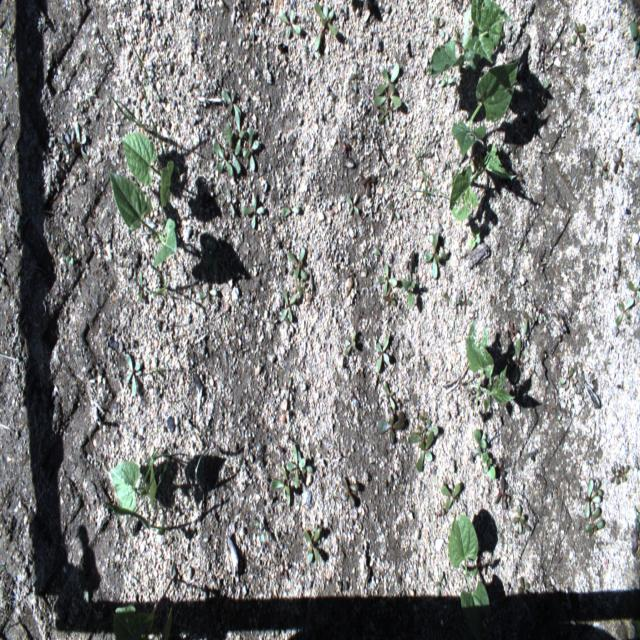crop: (428, 0, 514, 89), (107, 170, 177, 268), (451, 59, 518, 158), (450, 142, 512, 224), (465, 320, 513, 412), (446, 510, 489, 609), (122, 131, 174, 207), (109, 448, 169, 510), (112, 605, 160, 639)
weed: (131, 35, 168, 165), (408, 162, 448, 223), (106, 502, 166, 536), (108, 94, 146, 131), (423, 230, 448, 278), (286, 445, 312, 488), (410, 132, 436, 170), (64, 122, 88, 163), (313, 0, 339, 37), (378, 412, 406, 446), (373, 94, 402, 125), (223, 124, 240, 176), (414, 430, 434, 474), (271, 467, 291, 506), (286, 247, 308, 282), (303, 525, 322, 565), (242, 126, 259, 170), (376, 63, 400, 94), (242, 196, 264, 228), (585, 479, 603, 518), (377, 262, 397, 297), (279, 8, 301, 39), (125, 354, 142, 394), (410, 418, 438, 441), (213, 143, 232, 176), (440, 484, 461, 512), (4, 7, 12, 80), (222, 88, 241, 117), (514, 506, 532, 536), (616, 298, 635, 326), (281, 288, 296, 322), (147, 272, 167, 297), (342, 476, 358, 507), (585, 509, 605, 533), (376, 333, 388, 373), (482, 450, 497, 482), (402, 277, 416, 310), (160, 604, 172, 640), (349, 60, 362, 92), (495, 478, 508, 510), (304, 32, 320, 57), (235, 110, 244, 154), (473, 428, 487, 456), (570, 22, 586, 46), (224, 188, 236, 220), (631, 19, 640, 60), (432, 13, 445, 41), (199, 286, 216, 306), (383, 381, 395, 409), (559, 366, 574, 388), (514, 337, 521, 384), (517, 577, 530, 602), (344, 330, 356, 357), (470, 224, 481, 250), (347, 193, 359, 215), (627, 280, 640, 300), (614, 148, 623, 175), (630, 106, 639, 133), (435, 572, 444, 598), (523, 310, 532, 336), (281, 205, 299, 218), (387, 203, 400, 220), (596, 158, 607, 177), (611, 466, 621, 485), (621, 464, 629, 482), (138, 270, 142, 304), (298, 281, 306, 297), (65, 254, 73, 264)
